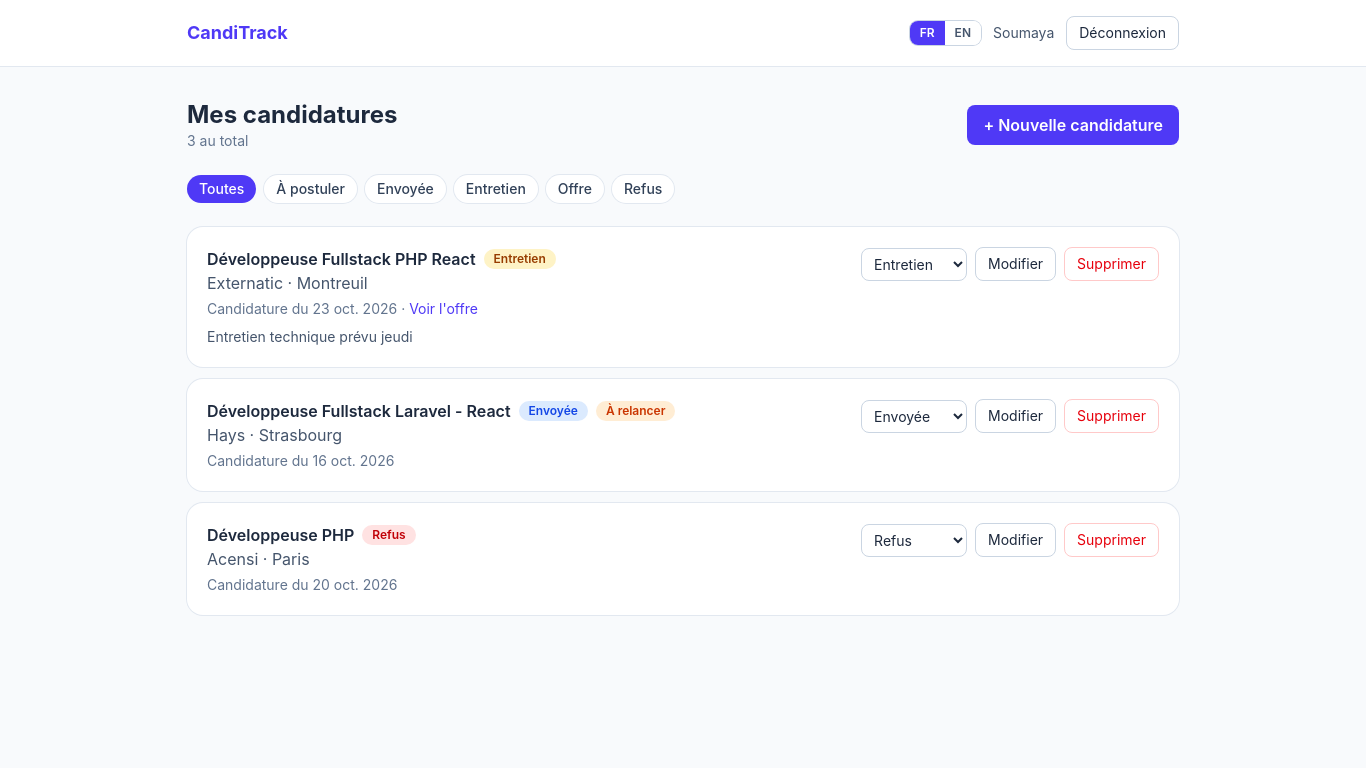
Test: Candidatures › crée une nouvelle candidature
Click the button "+ Nouvelle candidature".
click(1073, 125)  # box 967,105 -> 1179,145
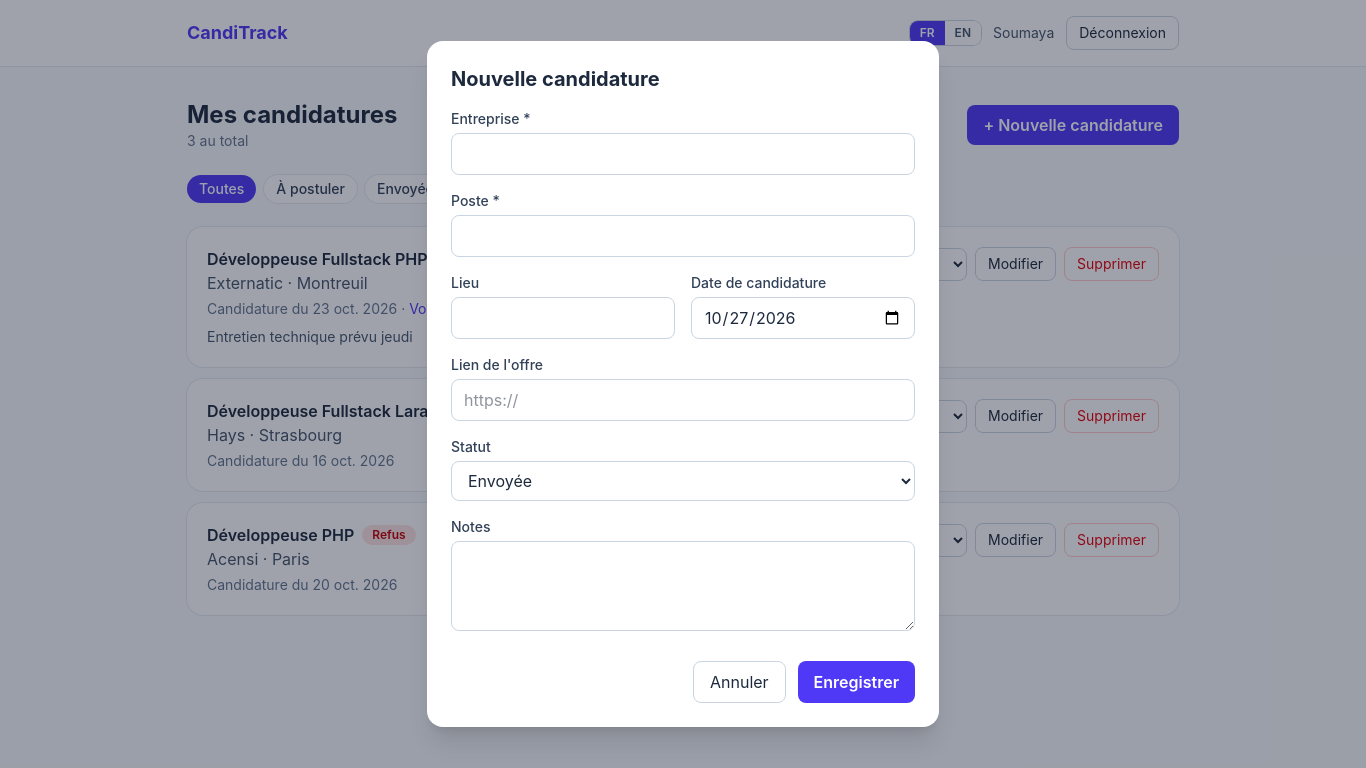
Type "6TM" into the field with id "company".
click(683, 154); type("6TM")  # box 451,133 -> 915,175
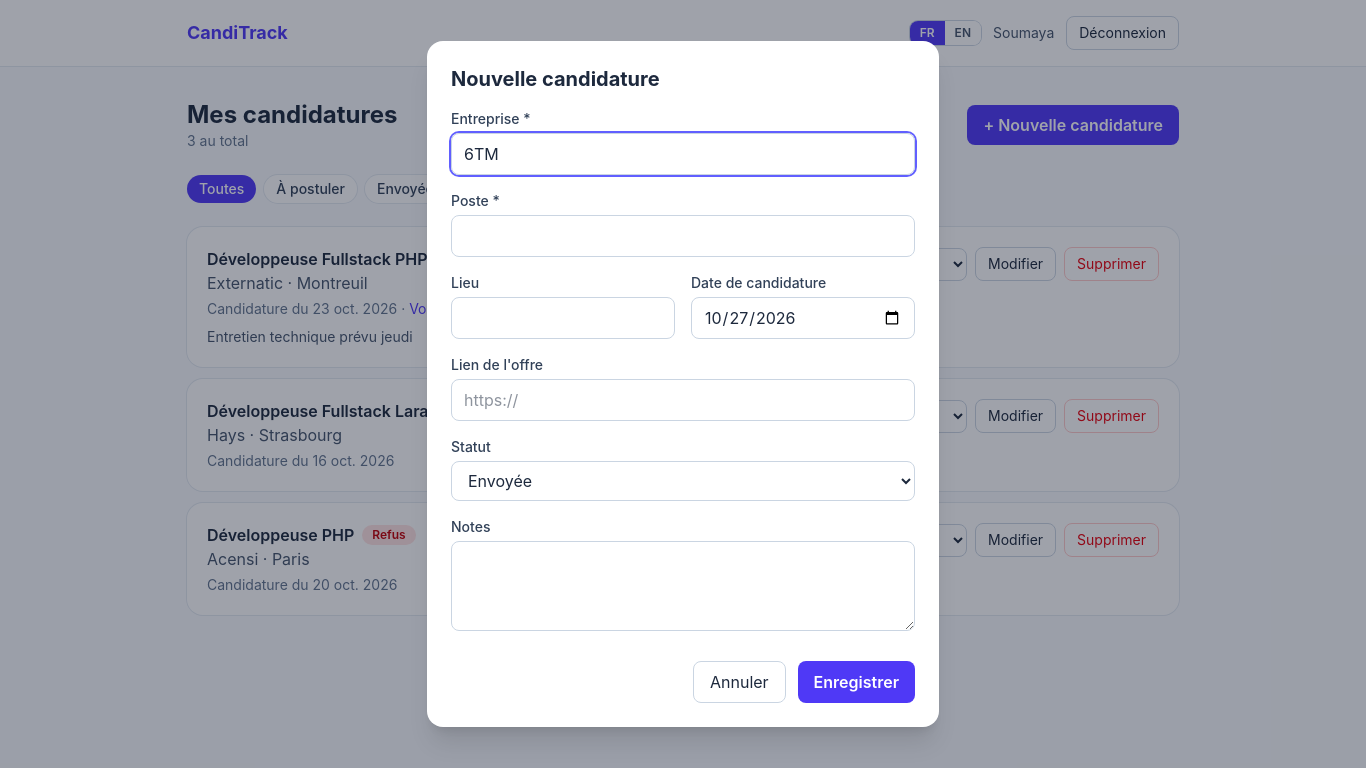
Type "Développeuse PHP Laravel" into the field labelled "Poste *".
click(683, 236); type("Développeuse PHP Laravel")  # box 451,215 -> 915,257
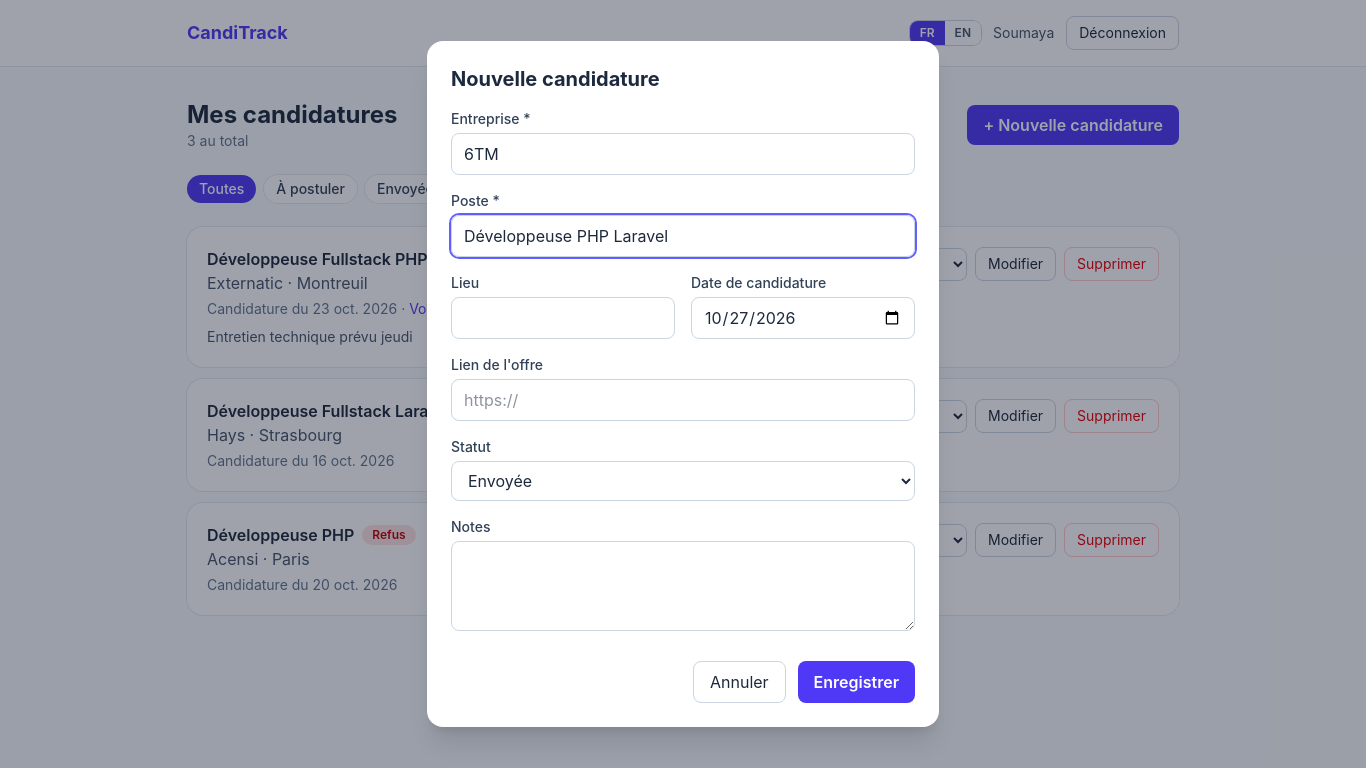
Type "Angers" into the field with id "location".
click(563, 318); type("Angers")  # box 451,297 -> 675,339
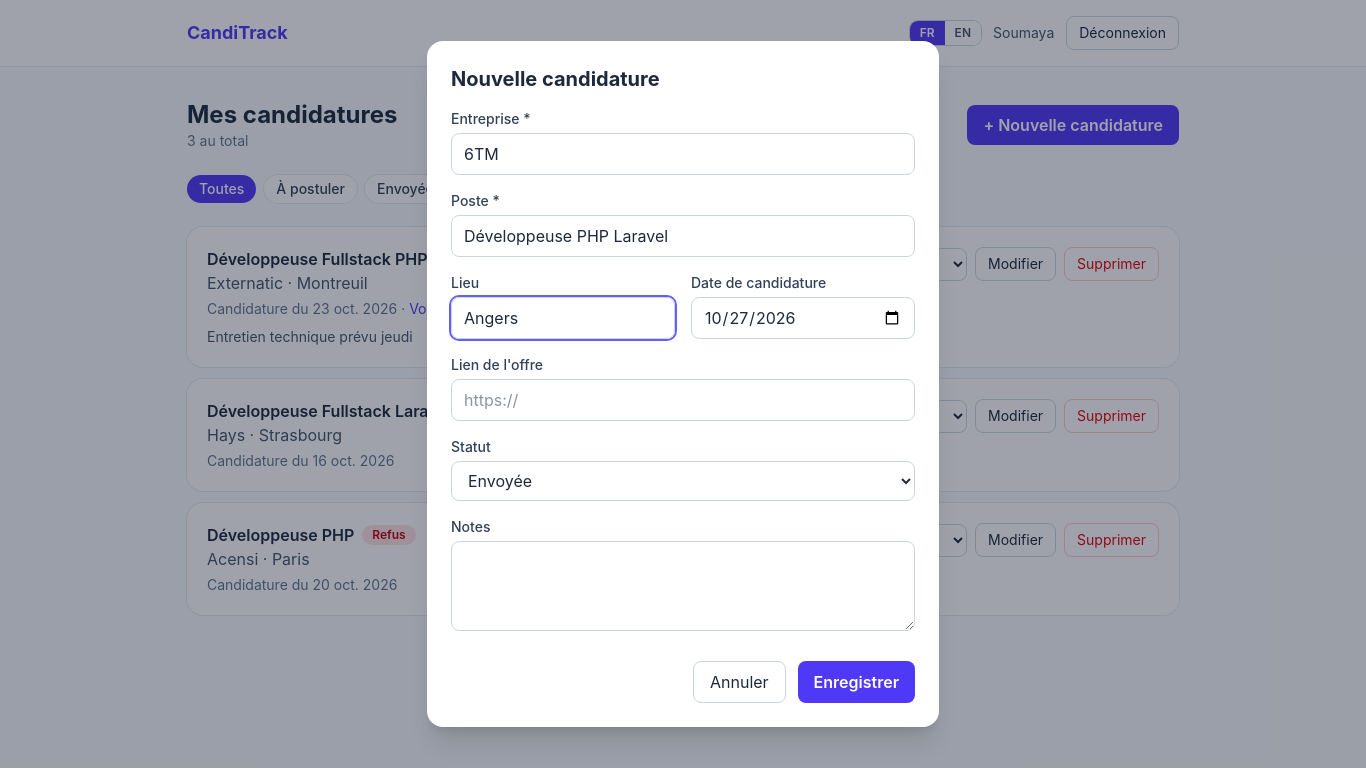
Click the button "Enregistrer".
click(857, 682)  # box 798,661 -> 915,703
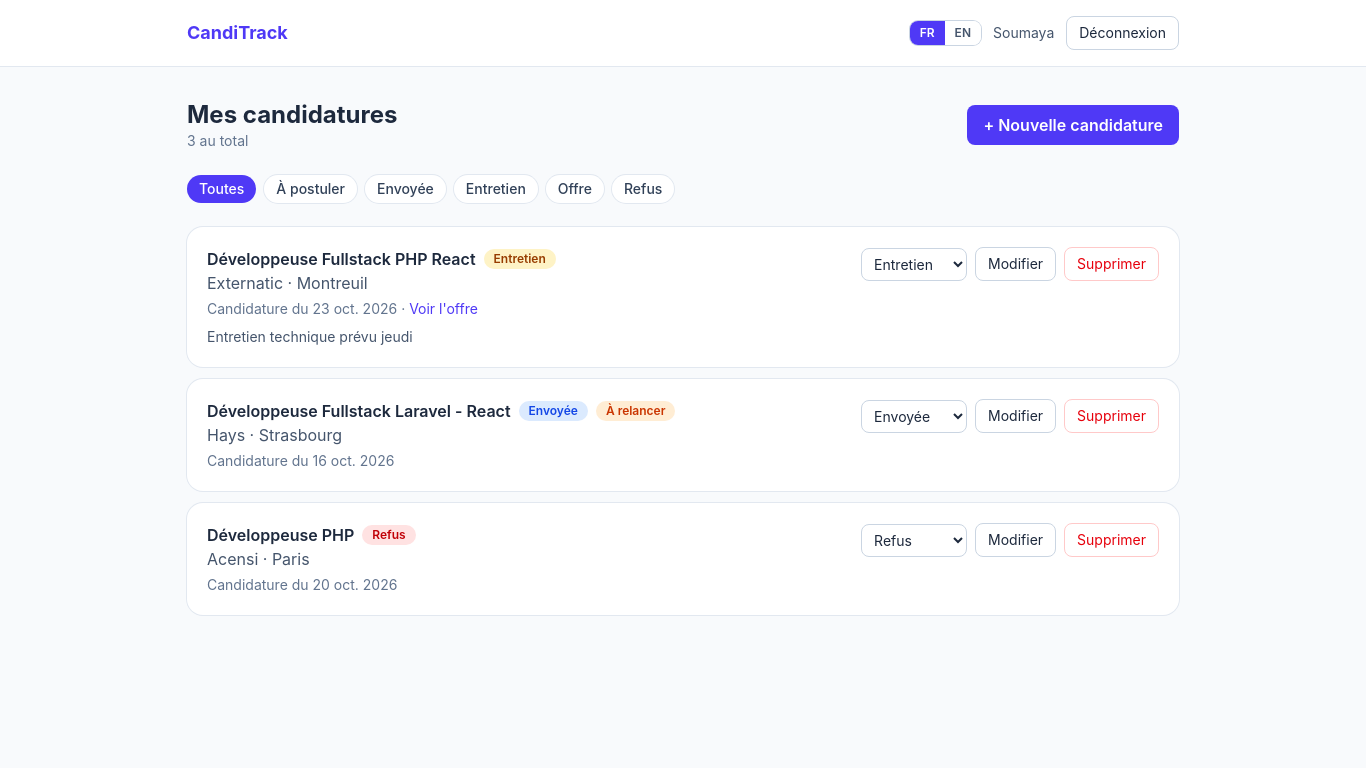
Expected: the dialog is gone
